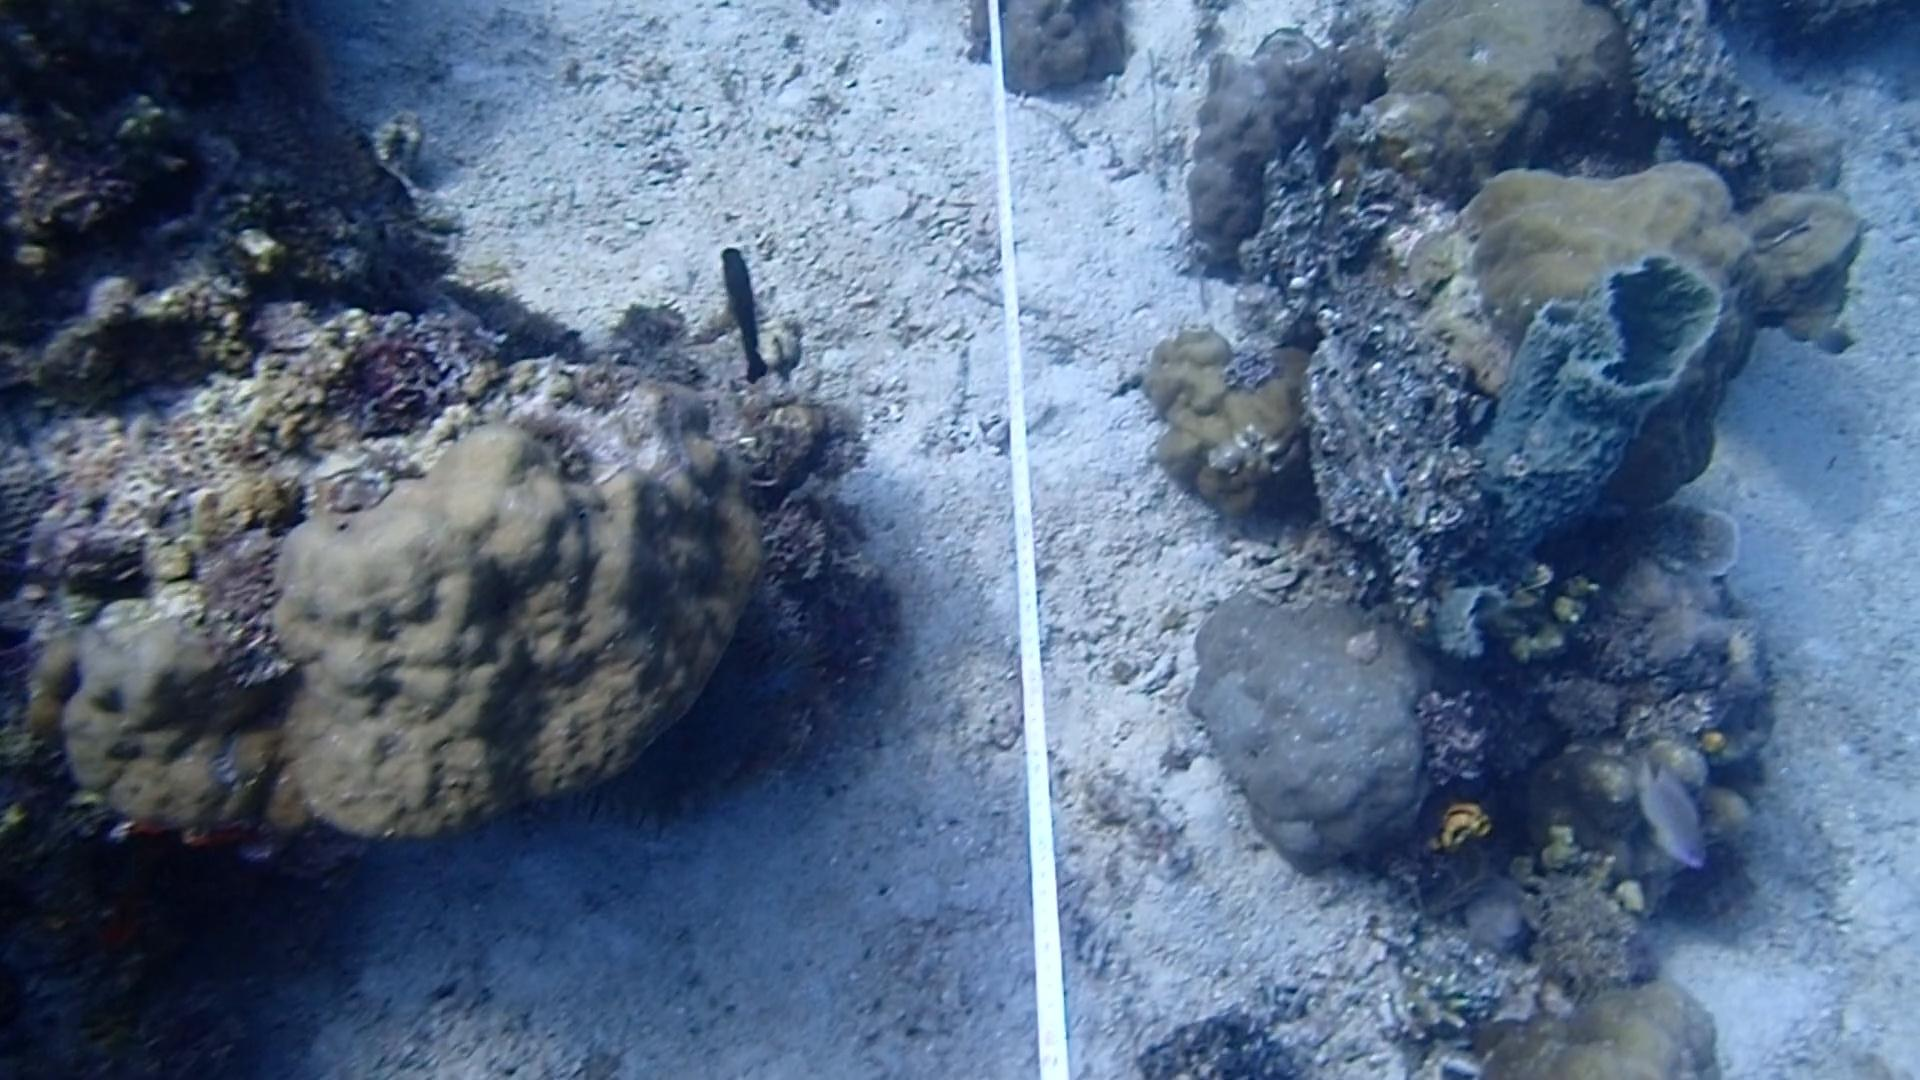Blue Nose Fish: (1618, 757, 1714, 869)
Dark Fish: (709, 241, 789, 385)
